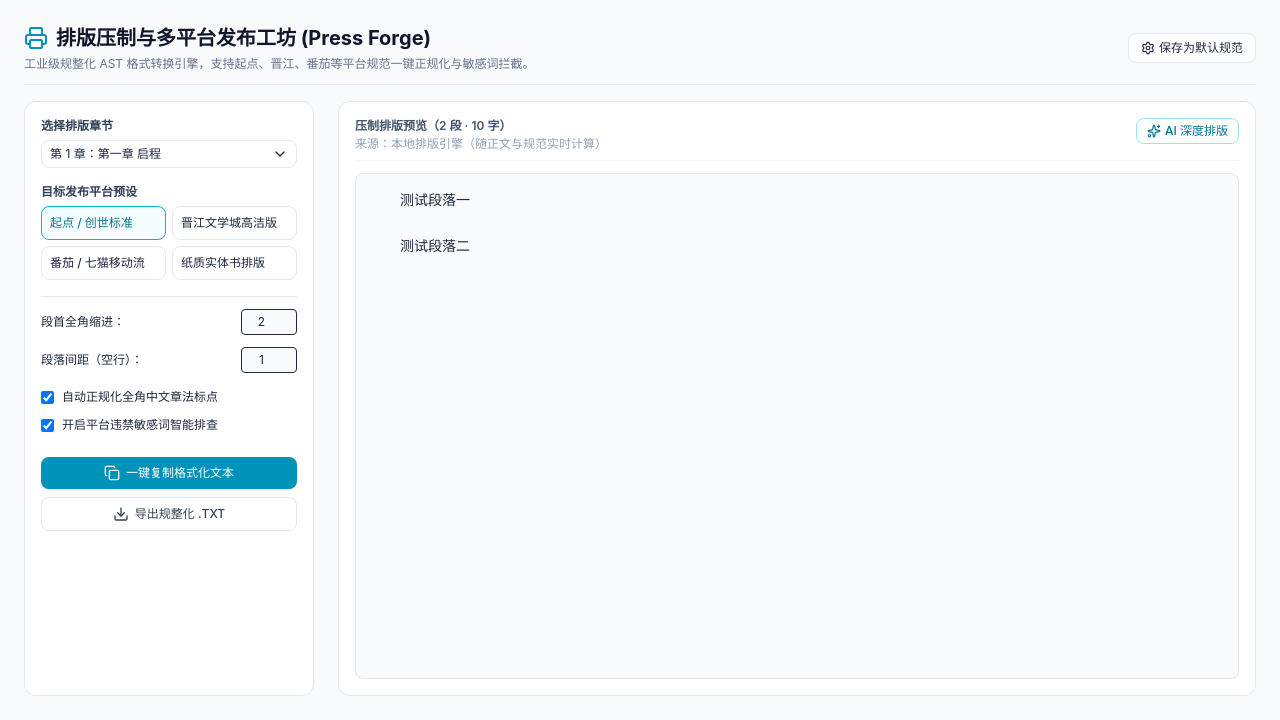
Scenario: PressForge Components › reports an unavailable AI channel instead of a silent no-op
The image size is (1280, 720).
Click the button with test id "press-forge-ai-run" at (1188, 131), box [1136,118,1239,144]
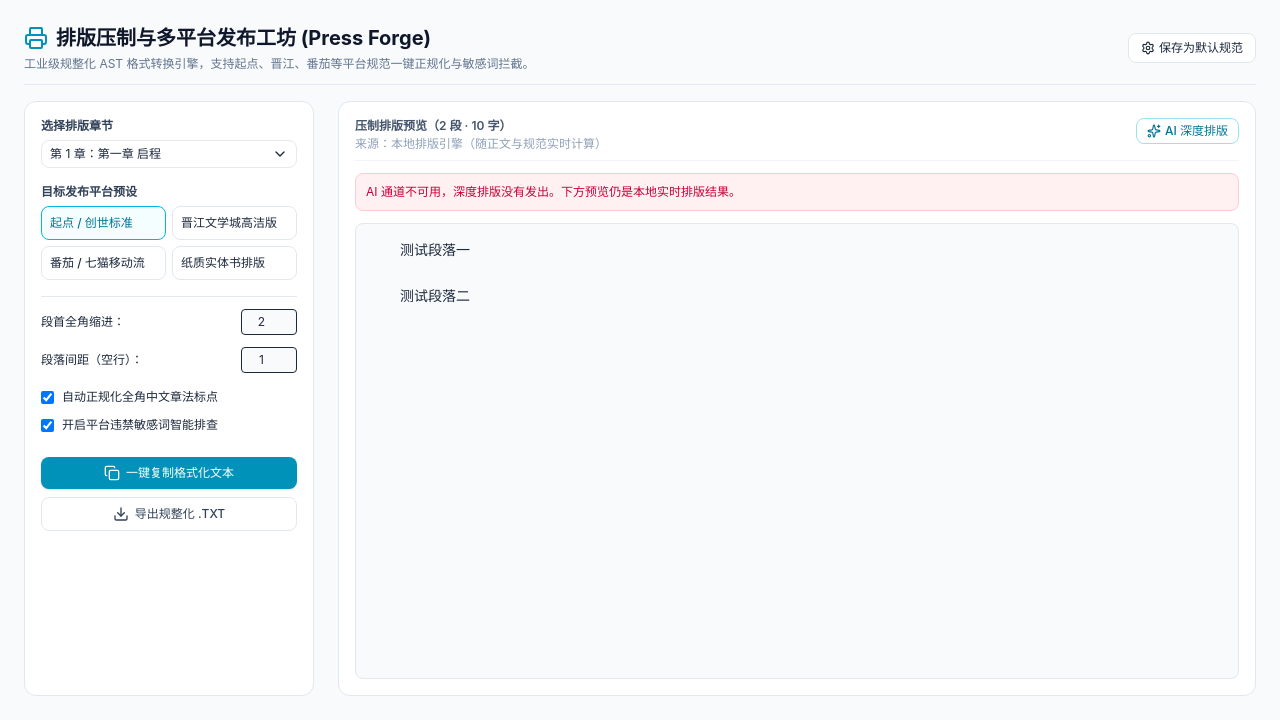
expect the text with test id "press-forge-result-origin" shows "来源：本地排版引擎": met, box [355,136,607,151]
expect the message shows "AI 通道不可用，深度排版没有发出": met, box [366,184,741,199]
